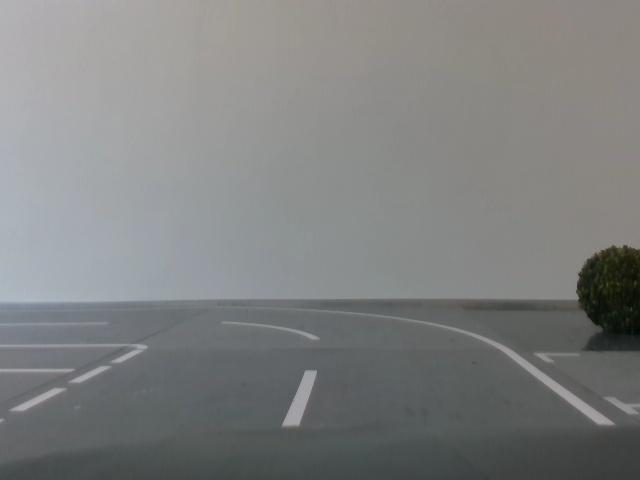potted plant: (573, 239, 640, 340)
